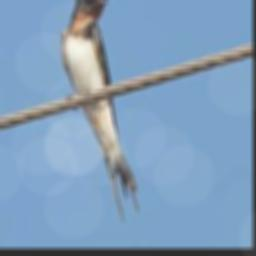Swallow: (61, 0, 138, 221)
